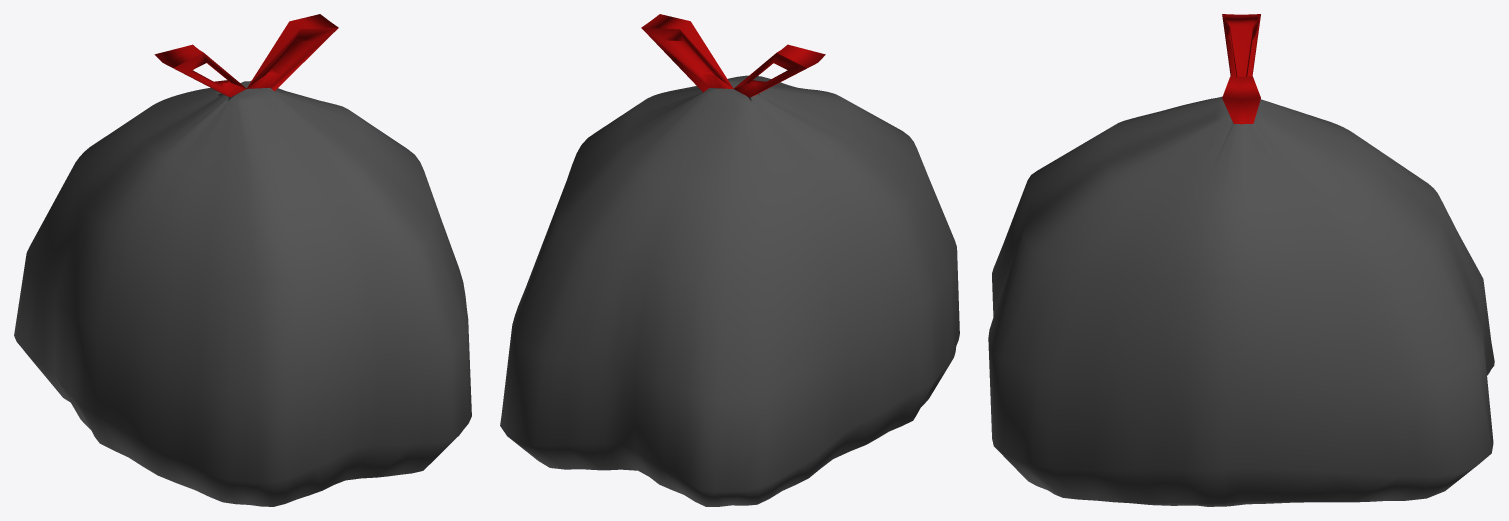
The model's file is BolsaN1.fbx.
3 views of the same model, side by side, from view 1: azimuth 30°, elevation 25°; view 2: azimuth 150°, elevation 25°; view 3: azimuth 270°, elevation 25° (orthographic). The views are drawn at different scales.
Parts seen in each view (by area): view 1: pCylinder2; view 2: pCylinder2; view 3: pCylinder2.
Part boxes in pixels (x1,y1,x2,y2): pCylinder2: (14,14,471,506); pCylinder2: (500,14,959,506); pCylinder2: (988,14,1494,506).
Size of the model in its own units: 2.13 by 2.21 by 2.49.
